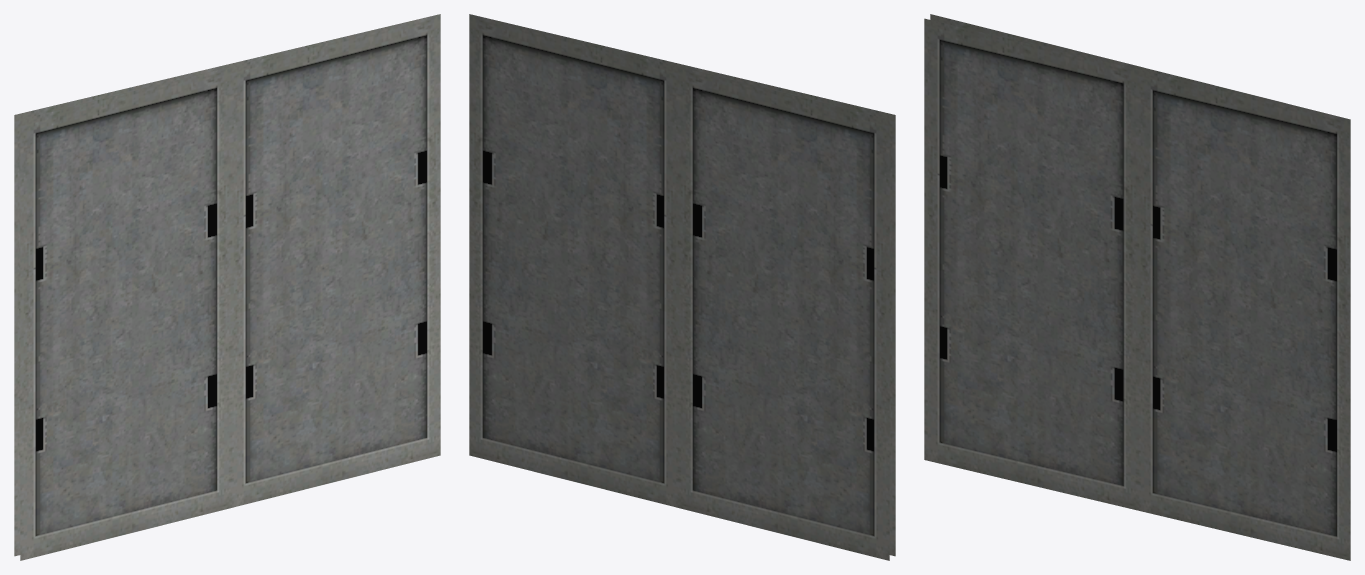
Rendered from door_corl_metal_s03_l1.fbx.
The picture shows the model from 3 angles, left to right: view 1: azimuth 30°, elevation 25°; view 2: azimuth 150°, elevation 25°; view 3: azimuth 330°, elevation 25°; orthographic projection.
Parts seen in each view (by area): view 1: mesh_node; view 2: mesh_node; view 3: mesh_node.
Part boxes in pixels (bbox=[...]): mesh_node: bbox=[14, 14, 440, 560]; mesh_node: bbox=[469, 14, 895, 560]; mesh_node: bbox=[924, 14, 1350, 560].
Size of the model in its own units: 3.01 by 3 by 0.0761.
1 material, 1 textured.
